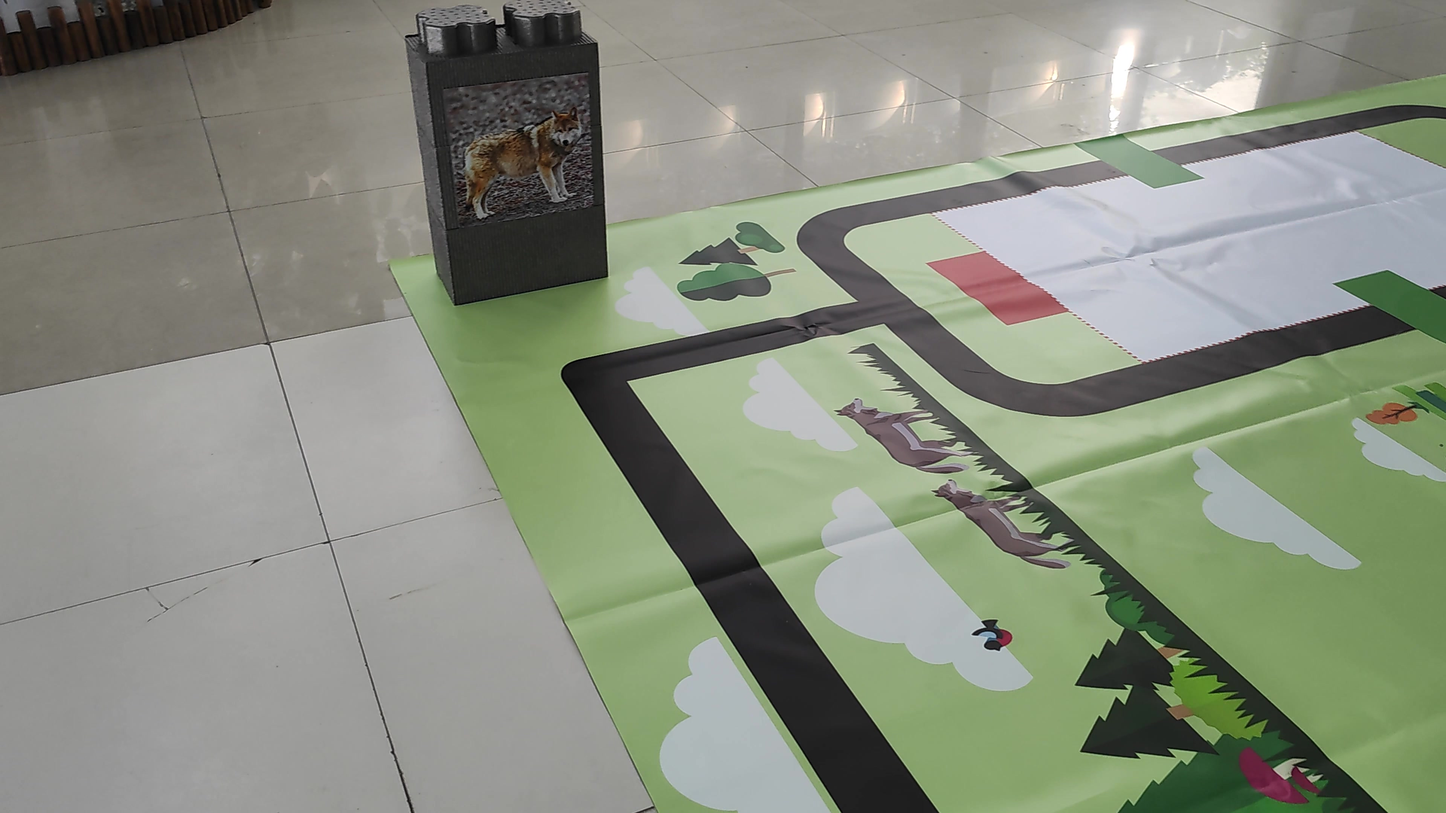wolf: (453, 90, 592, 216)
